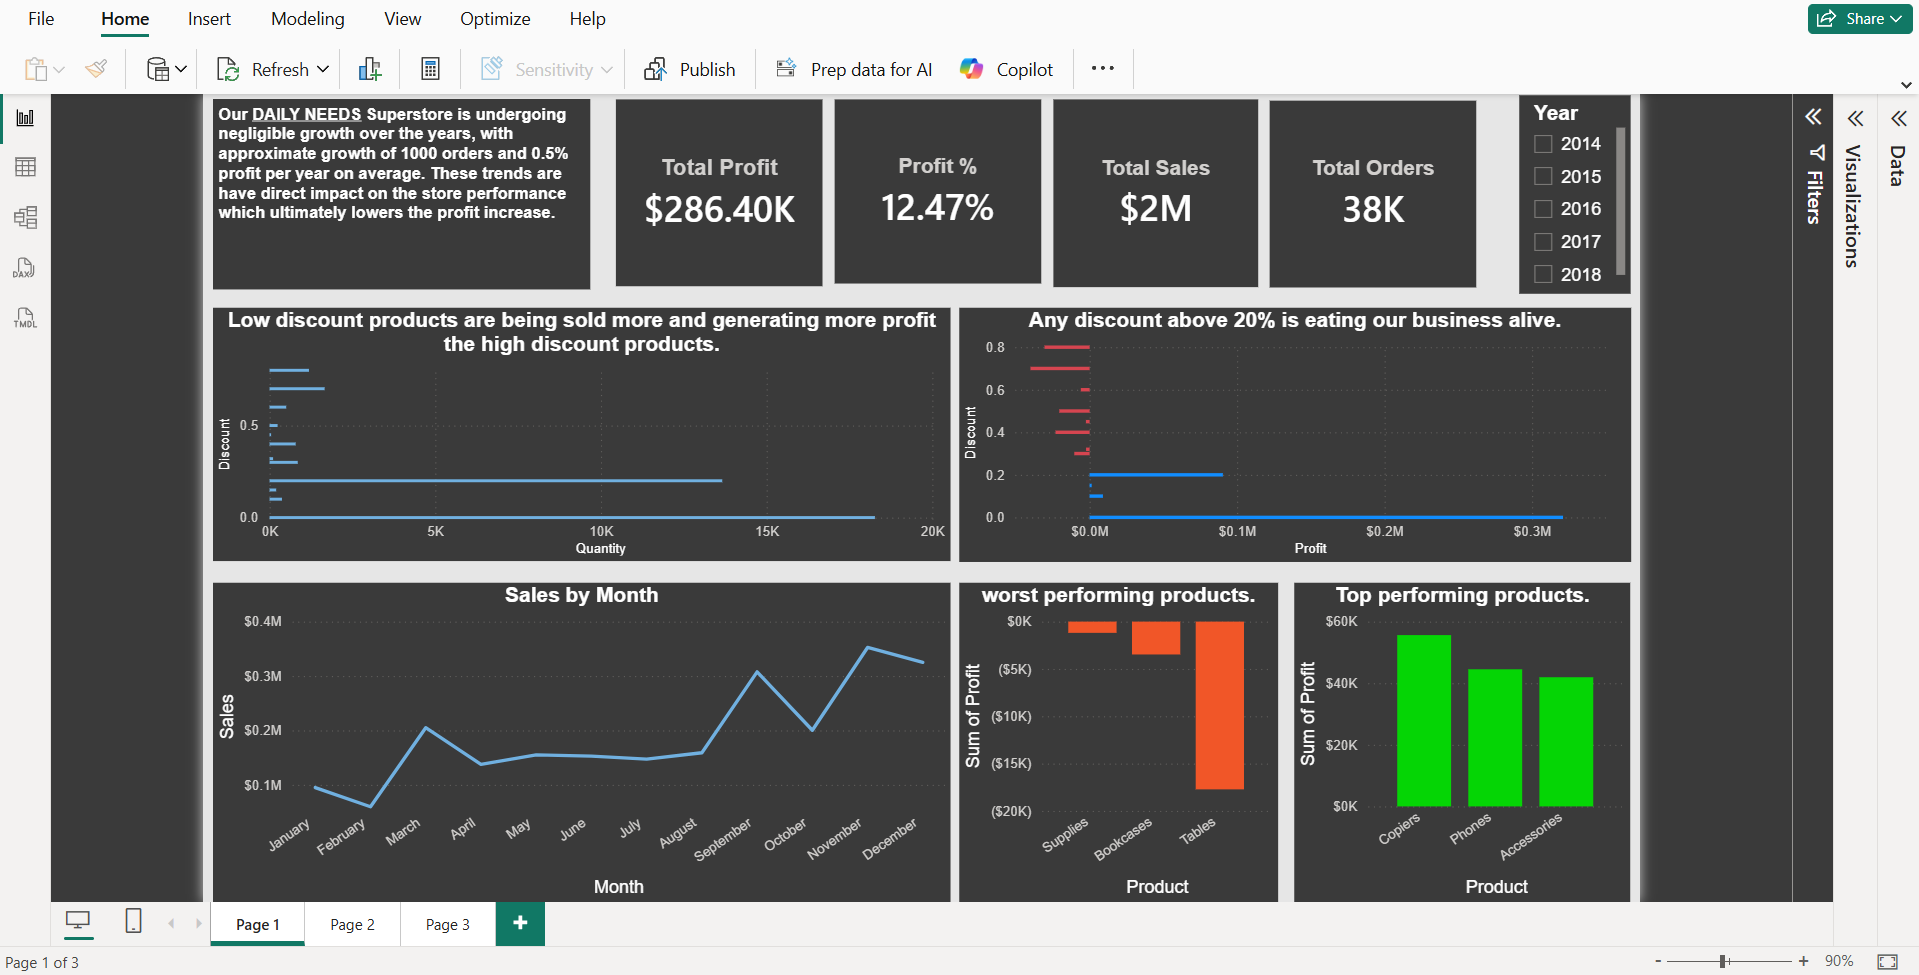

What the dashboard file says about the page in this screenshot:
{"tool":"powerbi","page":{"name":"Page 1","canvas":[1280,720],"ordinal":0},"visuals":[{"type":"cardVisual","fields":{"Data":["Sum(superstore.Profit)"]},"box":[362.9,0,194.8,177],"z":0},{"type":"cardVisual","fields":{"Data":["Sum(superstore.Sales)"]},"box":[752,0,192.1,177],"z":1000},{"type":"columnChart","title":"Top performing products.","fields":{"Category":["superstore.Sub-Category"],"Y":["Sum(superstore.Profit)"]},"box":[971.8,435.3,299.4,285],"z":2000},{"type":"columnChart","title":"worst performing products.","fields":{"Category":["superstore.Sub-Category"],"Y":["Sum(superstore.Profit)"]},"box":[673.5,435.3,283.9,285],"z":3000},{"type":"cardVisual","fields":{"Data":["superstore.Profit %"]},"box":[557.7,0,194.8,174.8],"z":4000},{"type":"cardVisual","fields":{"Data":["Sum(superstore.Quantity)"]},"box":[945.1,1.1,194.8,177],"z":5000},{"type":"slicer","fields":{"Values":["superstore.Year"]},"box":[1172,1,99,177],"z":6000},{"type":"lineChart","fields":{"Y":["Sum(superstore.Sales)"],"Category":["superstore.Order Date.Variation.Date Hierarchy.Year","superstore.Order Date.Variation.Date Hierarchy.Quarter","superstore.Order Date.Variation.Date Hierarchy.Month","superstore.Order Date.Variation.Date Hierarchy.Day"]},"box":[9,435,657,285],"z":7000},{"type":"barChart","title":"Any discount above 20% is eating our business alive.","fields":{"Category":["superstore.Discount"],"Y":["Sum(superstore.Profit)"]},"box":[673,190,598,226],"z":8000},{"type":"textbox","box":[9.3,4.7,336,169.8],"z":9000},{"type":"barChart","title":"Low discount products are being sold more and generating more profit the high discount products.","fields":{"Category":["superstore.Discount"],"Y":["Sum(superstore.Quantity)"]},"box":[8.9,190.4,656.8,226],"z":10000}]}

Visuals, with their boxes on the page's 1280x720 design canvas (x1, y1, x2, y2). These are canvas units, not pixel positions in the 1919x975 screenshot, which may show the page scaled, cropped or inside an application window:
cardVisual - Sum(superstore.Profit): {"x1": 363, "y1": 0, "x2": 558, "y2": 177}
cardVisual - Sum(superstore.Sales): {"x1": 752, "y1": 0, "x2": 944, "y2": 177}
"Top performing products." columnChart: {"x1": 972, "y1": 435, "x2": 1271, "y2": 720}
"worst performing products." columnChart: {"x1": 674, "y1": 435, "x2": 957, "y2": 720}
cardVisual - superstore.Profit %: {"x1": 558, "y1": 0, "x2": 752, "y2": 175}
cardVisual - Sum(superstore.Quantity): {"x1": 945, "y1": 1, "x2": 1140, "y2": 178}
slicer - superstore.Year: {"x1": 1172, "y1": 1, "x2": 1271, "y2": 178}
lineChart - Sum(superstore.Sales) x superstore.Order Date.Variation.Date Hierarchy.Year: {"x1": 9, "y1": 435, "x2": 666, "y2": 720}
"Any discount above 20% is eating our business alive." barChart: {"x1": 673, "y1": 190, "x2": 1271, "y2": 416}
textbox: {"x1": 9, "y1": 5, "x2": 345, "y2": 174}
"Low discount products are being sold more and generating more profit the high discount products." barChart: {"x1": 9, "y1": 190, "x2": 666, "y2": 416}
